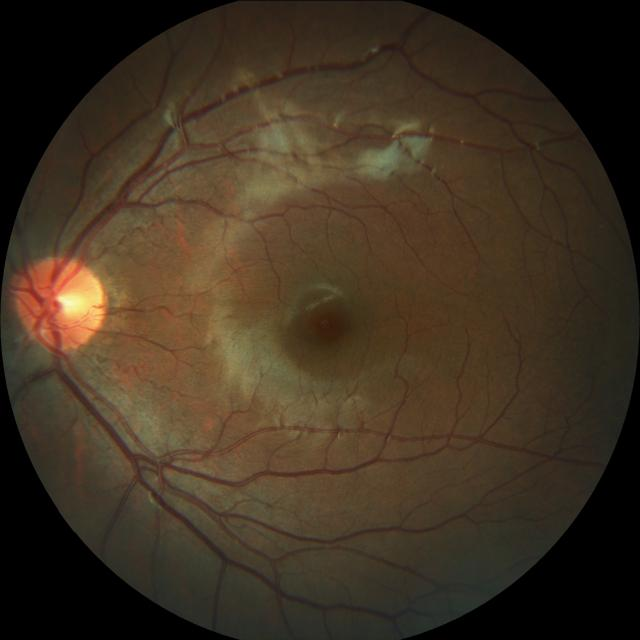OC: (43, 284, 89, 324)
OD: (19, 253, 108, 349)
